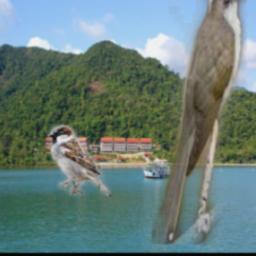Cuckoo: (152, 0, 247, 245)
Sparrow: (48, 124, 111, 196)
